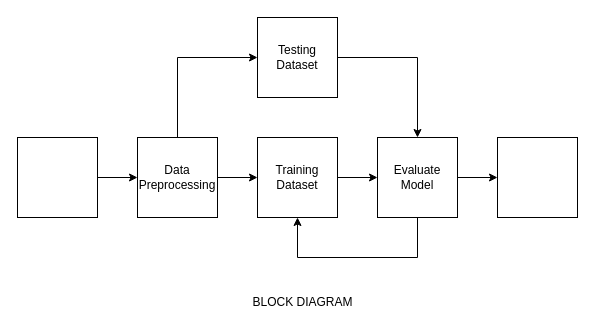
The diagram is 595 pixels wide and 335 high, and some of its shapes have lost their labels. Here are the shapes that lost their labels. From the top down, the centre of each, then its label:
the point at 57,177: Data Aquisition
the point at 537,177: Deploy Model
